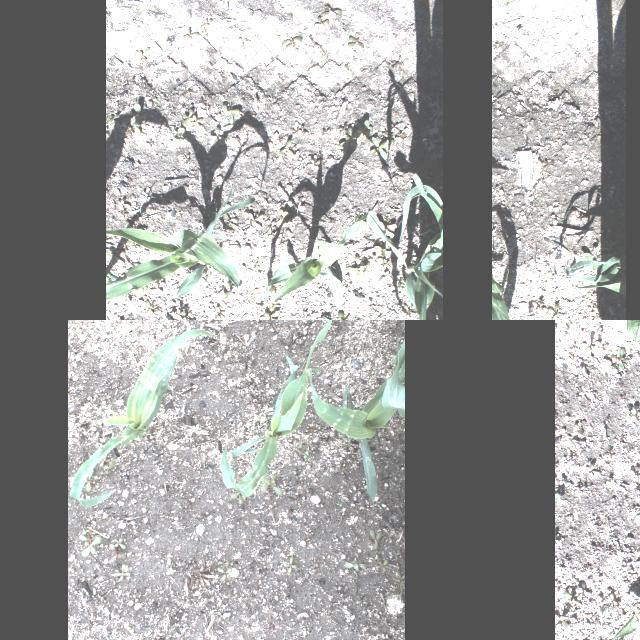crop: (68, 328, 214, 506), (220, 320, 337, 496), (106, 180, 254, 300), (308, 336, 404, 500), (366, 171, 442, 320), (258, 214, 366, 310), (565, 255, 623, 291), (606, 597, 640, 640)
weed: (77, 528, 101, 556), (260, 472, 284, 498), (78, 466, 98, 492), (582, 245, 602, 269), (494, 0, 532, 12), (132, 102, 146, 134), (338, 125, 359, 146), (346, 255, 368, 275), (579, 335, 599, 357), (369, 136, 388, 158), (208, 126, 226, 146), (354, 120, 372, 140), (108, 543, 126, 563), (608, 348, 624, 370), (221, 105, 239, 124), (574, 581, 590, 601), (280, 36, 302, 50), (134, 46, 150, 64), (247, 211, 263, 229), (222, 211, 238, 229), (221, 282, 239, 298), (106, 250, 124, 266), (547, 304, 565, 320), (114, 562, 130, 580), (563, 590, 581, 606), (284, 556, 298, 574), (604, 592, 618, 610), (217, 274, 227, 298), (370, 529, 382, 549), (322, 6, 341, 18), (181, 28, 197, 42), (279, 140, 293, 156), (216, 567, 232, 581), (554, 614, 568, 630), (172, 126, 184, 144), (169, 307, 185, 320), (92, 431, 105, 447), (259, 310, 279, 320), (230, 488, 244, 502), (393, 56, 409, 68), (181, 109, 193, 125), (306, 158, 322, 170), (276, 209, 288, 225), (124, 220, 132, 243), (345, 562, 367, 570), (402, 304, 416, 316), (348, 36, 362, 48), (150, 281, 164, 293), (376, 558, 388, 572), (112, 537, 126, 549), (97, 452, 109, 466), (314, 17, 330, 27), (144, 300, 154, 316), (334, 311, 350, 320), (166, 556, 174, 574), (624, 408, 636, 420), (191, 114, 201, 128), (394, 274, 404, 288), (374, 246, 388, 256), (116, 199, 130, 209), (338, 123, 349, 135), (266, 220, 276, 233), (268, 284, 276, 300), (297, 126, 307, 138), (114, 456, 124, 468), (382, 268, 392, 278), (106, 114, 116, 124), (271, 300, 281, 310), (238, 37, 250, 45), (406, 249, 414, 261), (125, 126, 134, 136), (389, 122, 398, 132), (400, 574, 404, 596), (200, 24, 207, 36), (201, 18, 211, 26), (383, 259, 391, 269), (635, 553, 640, 569), (394, 133, 406, 139), (240, 265, 252, 271), (138, 284, 148, 290), (250, 262, 260, 268), (224, 0, 230, 9), (184, 154, 188, 160), (115, 188, 119, 194)
